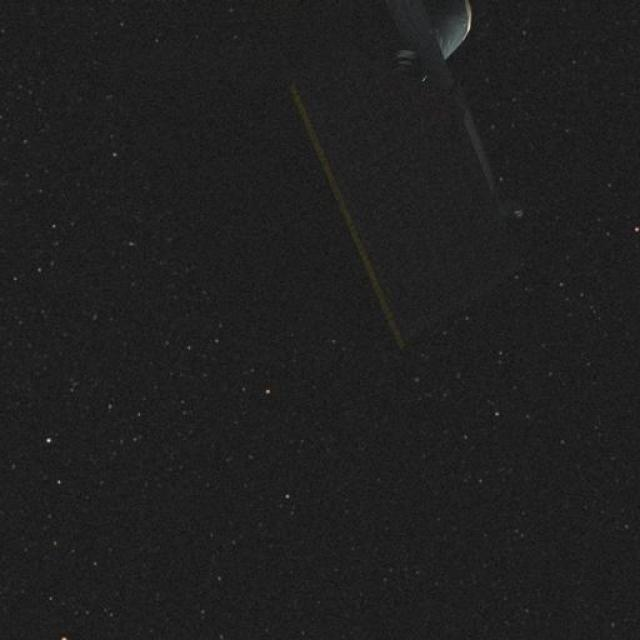cheops: (310, 0, 543, 338)
